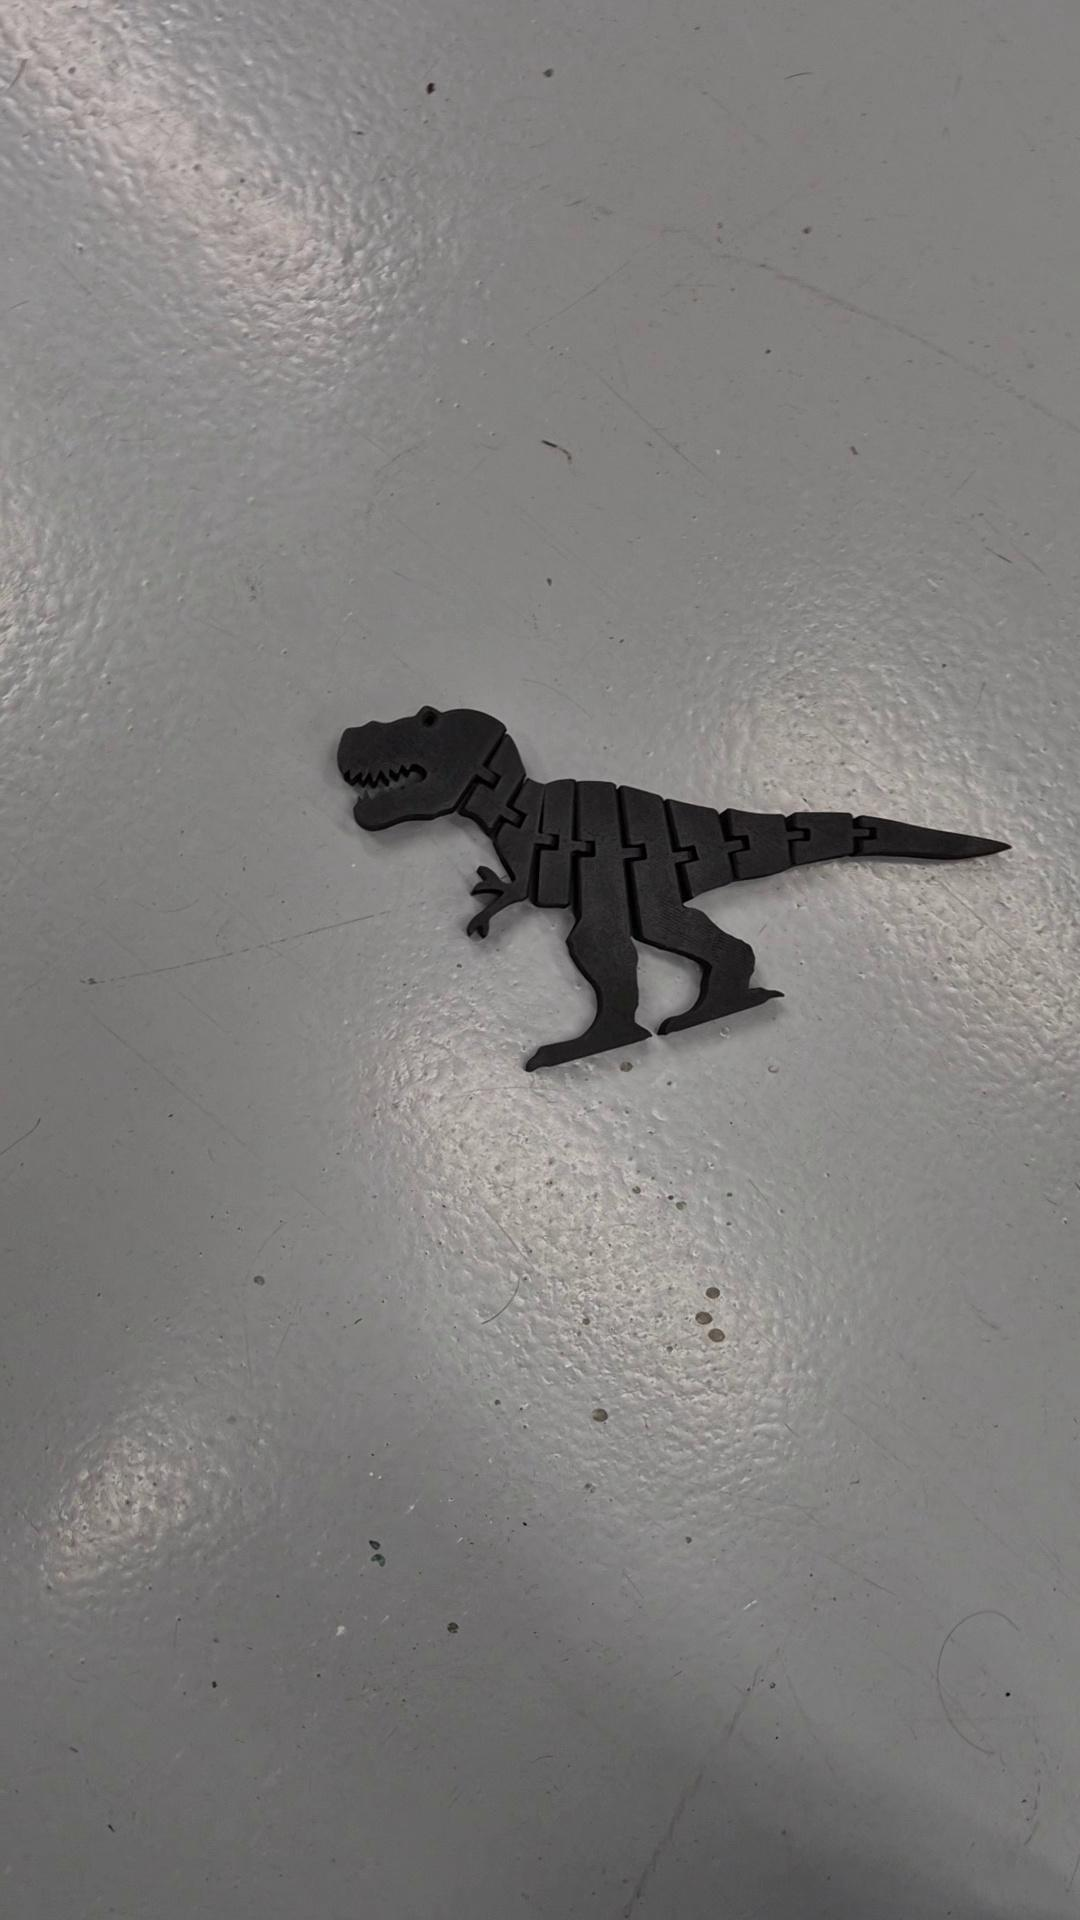dinosaur: (335, 703, 1014, 1073)
